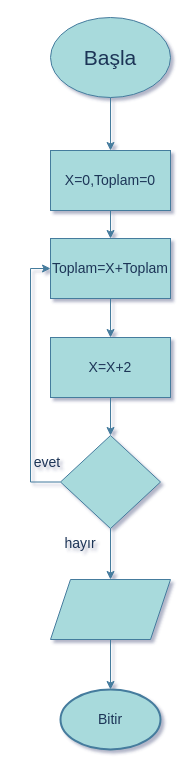
This 194x774 diagram has some shape labels left out. Each missing label, with the centre of its shape:
Toplam değerini yazdır.: the point at 110,609
X<=100: the point at 110,481
